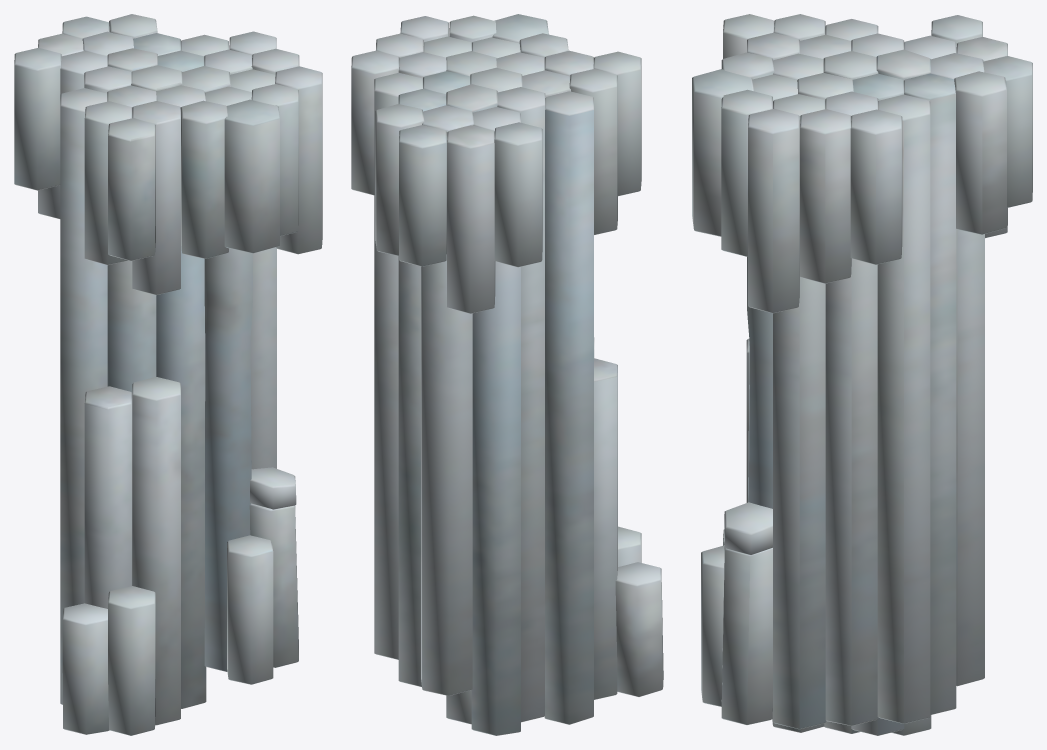
The model's file is P_RockHexic_Spire05.obj.
3 views of the same model, side by side, from view 1: azimuth 30°, elevation 25°; view 2: azimuth 150°, elevation 25°; view 3: azimuth 270°, elevation 25° (orthographic). The views are drawn at different scales.
Bounding box in the file's own units: 21.94 × 49.07 × 22.88.
